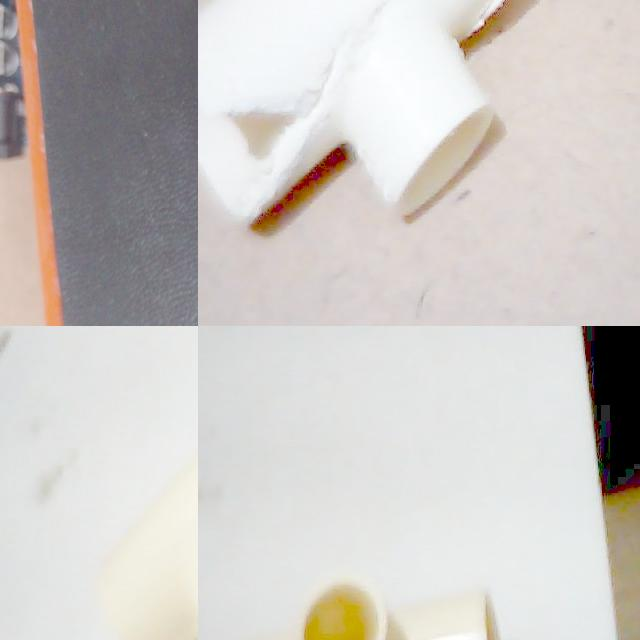Defective: (198, 68, 318, 220), (442, 0, 546, 51), (123, 261, 198, 316)
T Joint: (198, 0, 506, 229), (108, 16, 198, 326), (97, 449, 198, 640), (251, 573, 500, 640)
